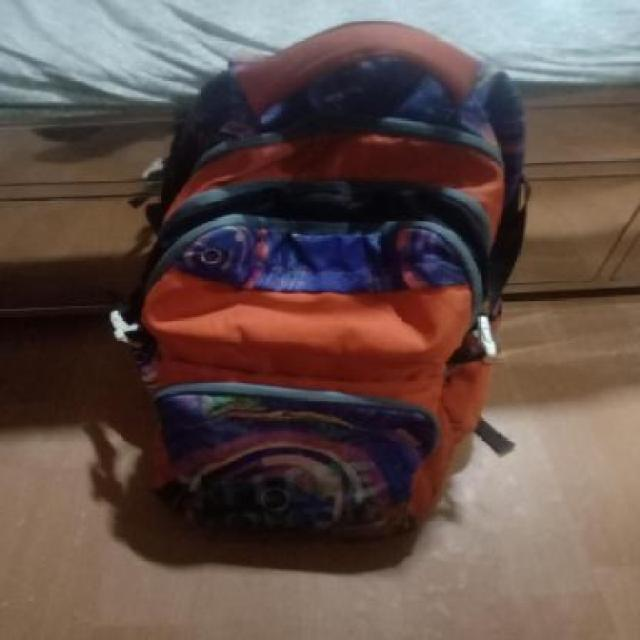backpack: (108, 14, 537, 548)
